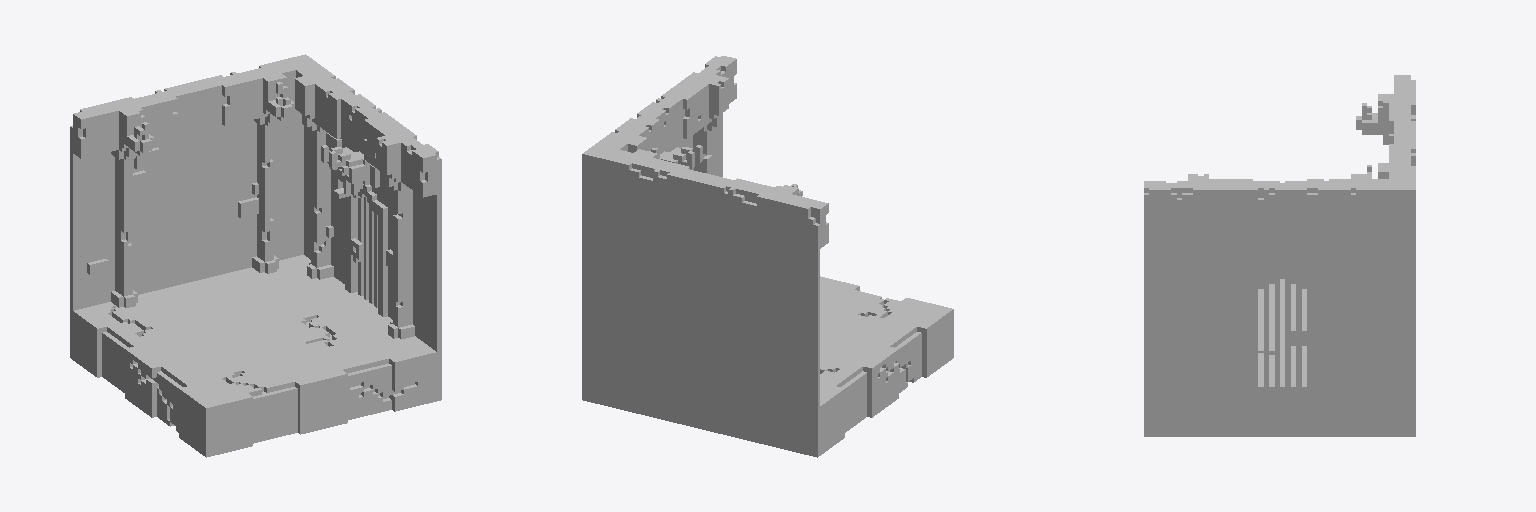
File: Boss Room.obj
The picture shows the model from 3 angles: view 1: azimuth 30°, elevation 25°; view 2: azimuth 150°, elevation 25°; view 3: azimuth 270°, elevation 25°; orthographic projection.
Parts seen in each view (by area): view 1: BossRoom; view 2: BossRoom; view 3: BossRoom.
Boxes of the visible parts, x1=… form: BossRoom: x1=70, y1=54, x2=441, y2=457; BossRoom: x1=582, y1=56, x2=953, y2=457; BossRoom: x1=1144, y1=75, x2=1415, y2=436.
Bounding box in the file's own units: 5 × 5 × 5.